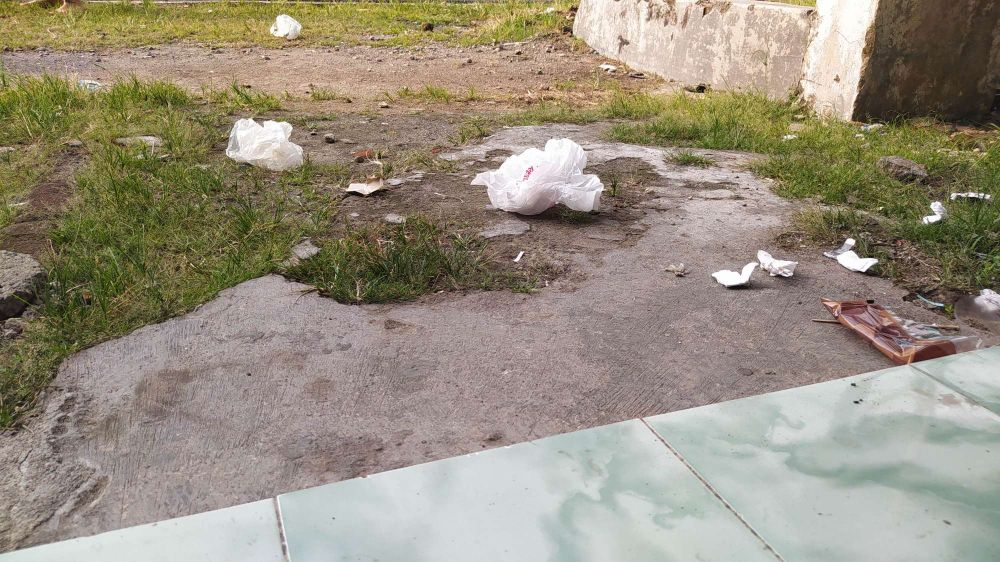plastik: (476, 131, 630, 238), (221, 103, 318, 183), (901, 190, 965, 228), (832, 230, 886, 271), (753, 243, 808, 279), (254, 12, 313, 44), (710, 258, 759, 292), (968, 265, 1000, 317)
